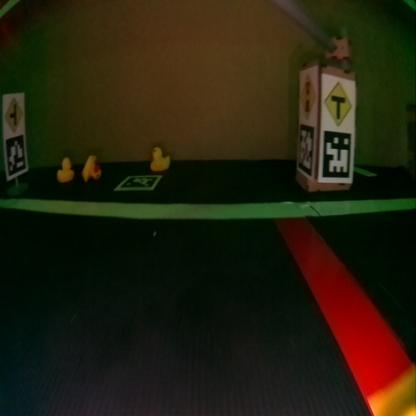Duckie: (81, 154, 100, 180), (149, 146, 169, 170), (57, 157, 73, 183)
Intersection sign: (322, 80, 352, 126), (4, 98, 23, 132)
QR code: (322, 131, 350, 179), (296, 122, 314, 174), (5, 133, 26, 177), (113, 173, 160, 189)
Signal sign: (298, 79, 316, 117)
